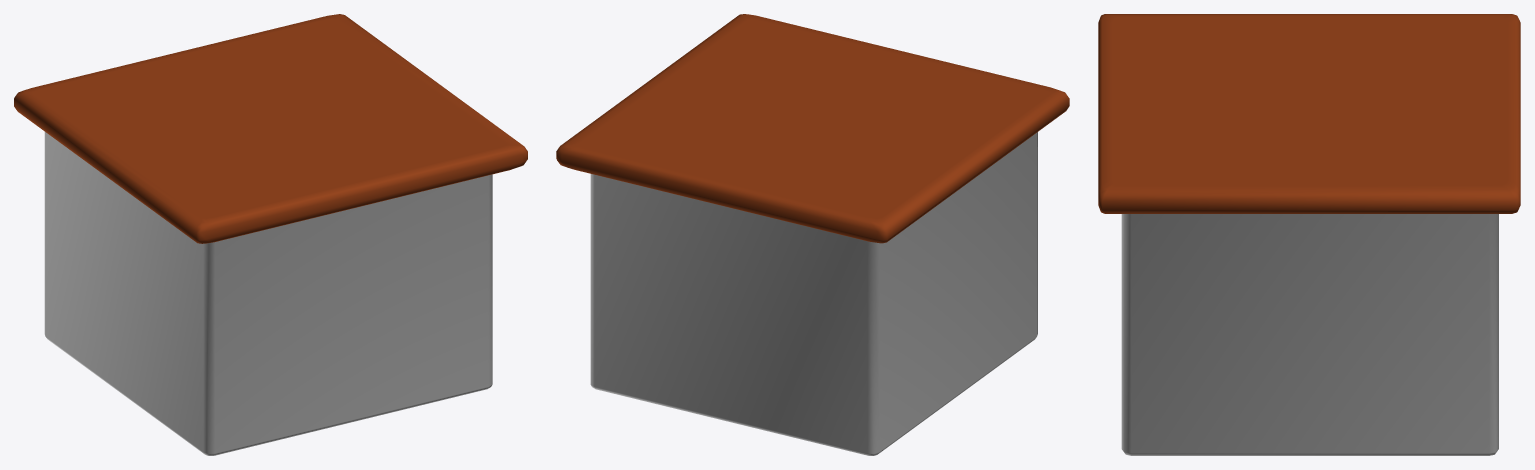
Rendered from BasicBench.glb.
3 views of the same model, side by side, from view 1: azimuth 30°, elevation 25°; view 2: azimuth 150°, elevation 25°; view 3: azimuth 270°, elevation 25° (orthographic). The views are drawn at different scales.
Visible parts, largest first — view 1: Cube; view 2: Cube; view 3: Cube.
Part boxes in pixels (x1,y1,x2,y2): Cube: [14, 14, 527, 455]; Cube: [556, 14, 1069, 455]; Cube: [1098, 14, 1520, 455].
Size of the model in its own units: 3.07 by 2.17 by 2.99.
